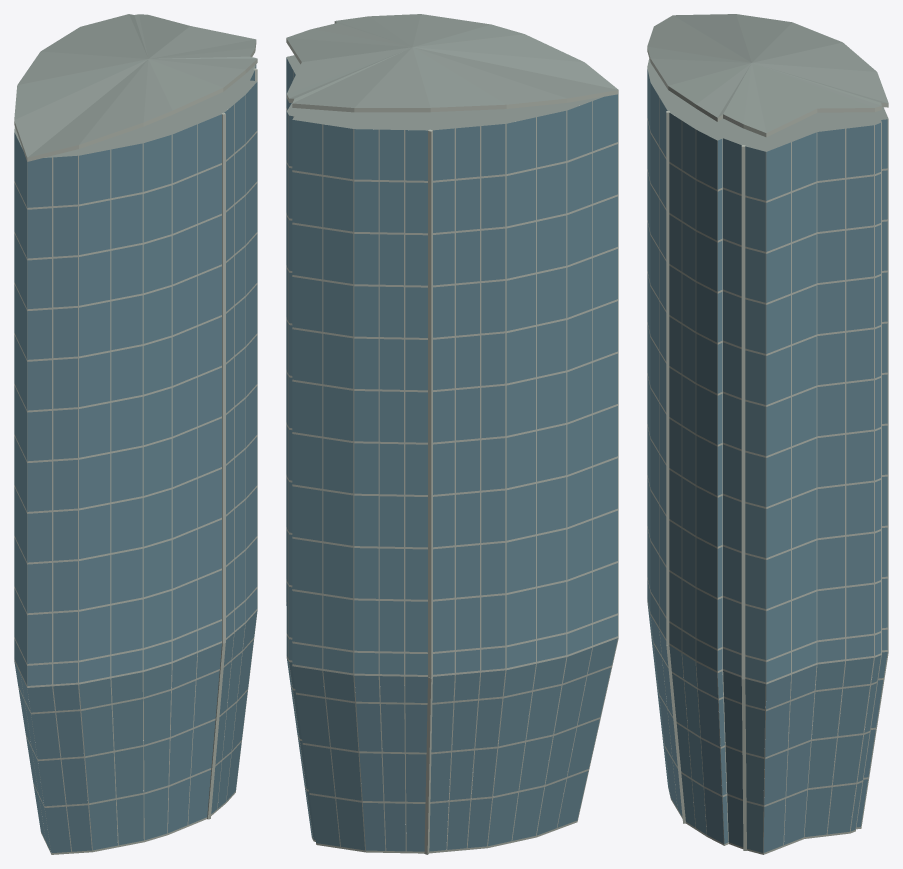
Rendered from tour-oxygene-far.glb.
3 views of the same model, side by side, from view 1: azimuth 30°, elevation 25°; view 2: azimuth 150°, elevation 25°; view 3: azimuth 270°, elevation 25° (orthographic). The views are drawn at different scales.
Parts seen in each view (by area): view 1: tour-oxygene-0-glass, tour-oxygene-0-roof, tour-oxygene-0-frame; view 2: tour-oxygene-0-glass, tour-oxygene-0-frame, tour-oxygene-0-roof; view 3: tour-oxygene-0-glass, tour-oxygene-0-frame, tour-oxygene-0-roof.
Boxes of the visible parts, x1,y1,x2,y2 form: tour-oxygene-0-glass: (14, 64, 257, 853); tour-oxygene-0-roof: (14, 14, 257, 157); tour-oxygene-0-frame: (14, 40, 257, 854); tour-oxygene-0-glass: (286, 58, 617, 851); tour-oxygene-0-frame: (286, 21, 618, 854); tour-oxygene-0-roof: (286, 14, 618, 130); tour-oxygene-0-glass: (647, 69, 887, 852); tour-oxygene-0-frame: (647, 48, 888, 854); tour-oxygene-0-roof: (647, 14, 888, 151).
Size of the model in its own units: 44.7 by 115 by 33.72.
